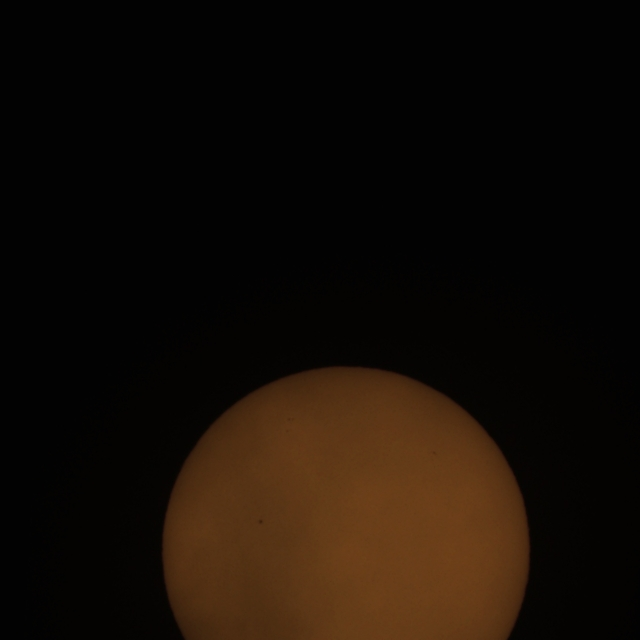sunspot: (286, 416, 295, 424), (257, 518, 264, 526)
